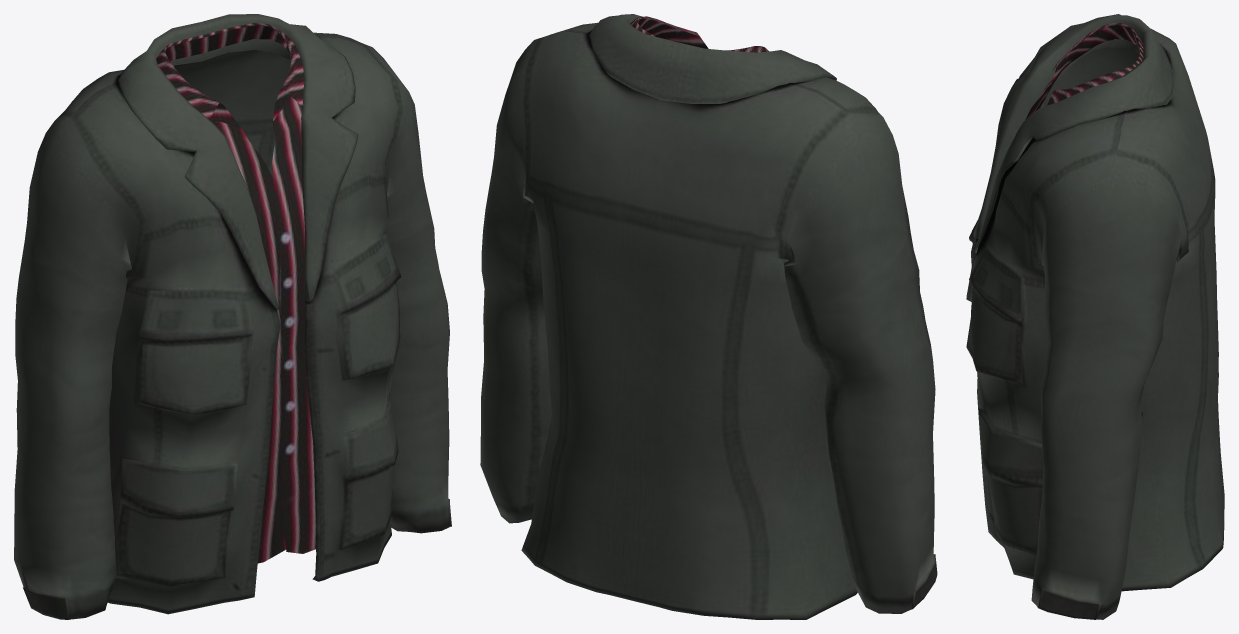
The model's file is outer_casual_jacket.gltf.
The picture shows the model from 3 angles, left to right: view 1: azimuth 30°, elevation 25°; view 2: azimuth 150°, elevation 25°; view 3: azimuth 270°, elevation 25°; orthographic projection. The views are drawn at different scales.
Parts seen in each view (by area): view 1: outer_casual_jacket; view 2: outer_casual_jacket; view 3: outer_casual_jacket.
Boxes of the visible parts, x1,y1,x2,y2 form: outer_casual_jacket: (14,14,451,619); outer_casual_jacket: (480,14,937,619); outer_casual_jacket: (966,14,1224,619).
Bounding box in the file's own units: 0.5738 × 0.6786 × 0.3241.
Materials: 1 (1 with a texture image).
